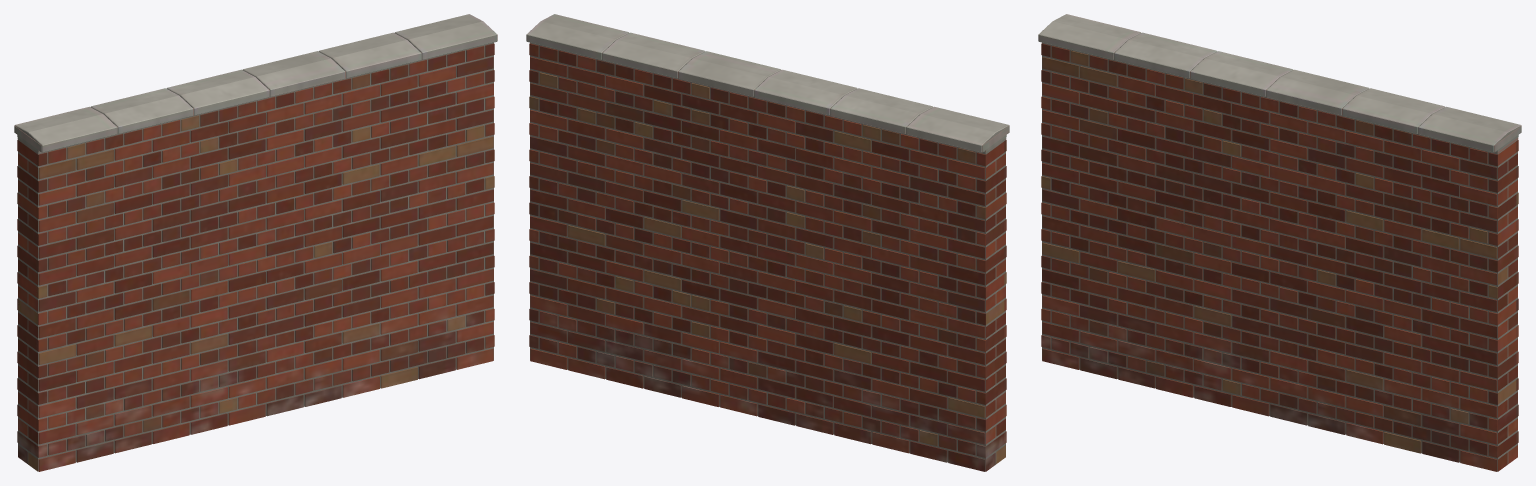
Rendered from brick-wall.glb.
3 renders of one model, left to right at view 1: azimuth 30°, elevation 25°; view 2: azimuth 150°, elevation 25°; view 3: azimuth 330°, elevation 25°, orthographic.
Visible parts, largest first — view 1: brick-wall_body; view 2: brick-wall_body; view 3: brick-wall_body.
Boxes of the visible parts, x1=… form: brick-wall_body: x1=14, y1=14, x2=497, y2=471; brick-wall_body: x1=526, y1=14, x2=1009, y2=471; brick-wall_body: x1=1038, y1=14, x2=1521, y2=471.
Size of the model in its own units: 3 by 2.09 by 0.32.
Materials: 1 (1 with a texture image).
